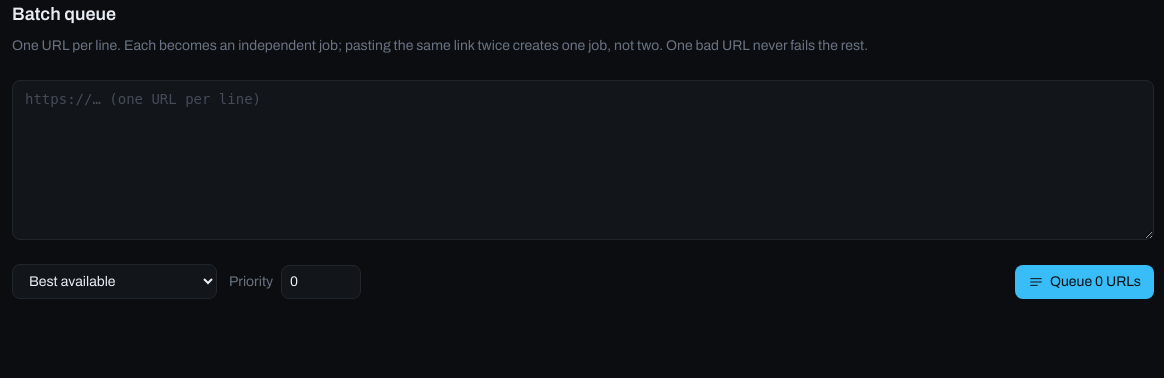
Scenario: Batch screen › surfaces backend failures as plain messages
Type "https://example.com/1" into the text box with placeholder "https://… (one URL per line)" at (583,160), box x1=12 y1=80 x2=1154 y2=240
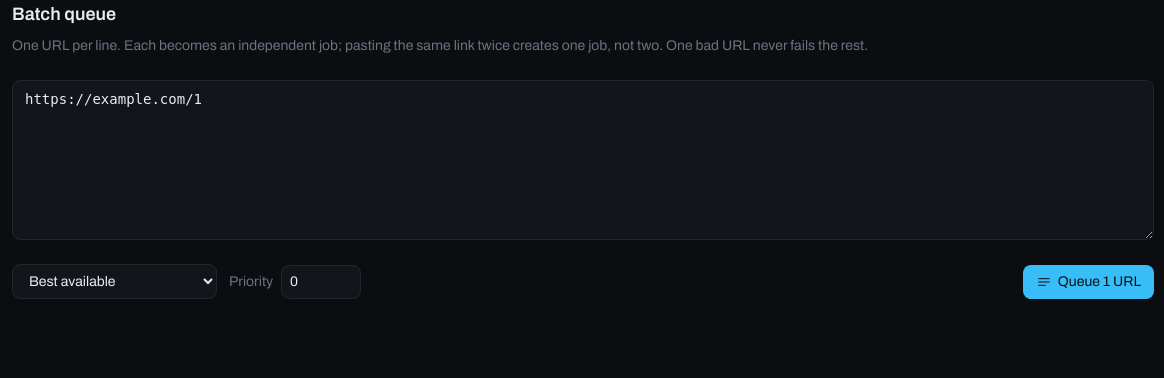
Click the button "Queue 1 URL" at (1088,282), box x1=1023 y1=264 x2=1154 y2=298
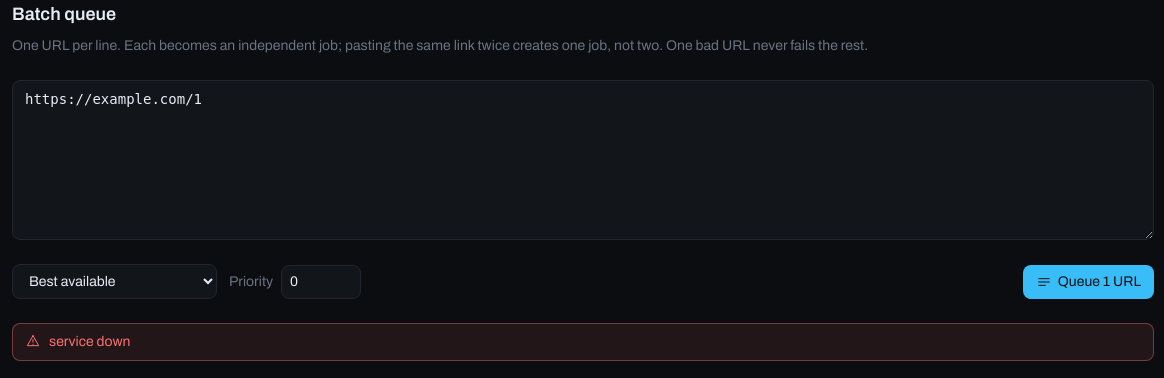
Result: the text "service down" is shown at x1=49 y1=334 x2=130 y2=349
